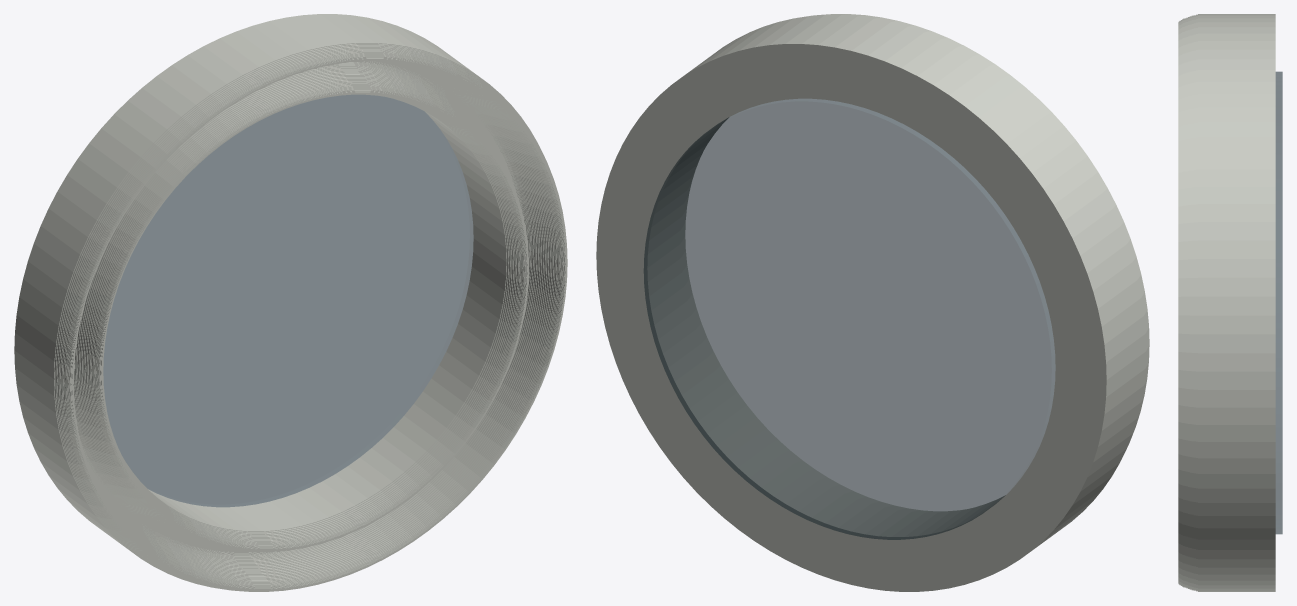
The model's file is barroco_circle.glb.
3 views of the same model, side by side, from view 1: azimuth 30°, elevation 25°; view 2: azimuth 150°, elevation 25°; view 3: azimuth 270°, elevation 25° (orthographic).
Visible parts, largest first — view 1: window_glass#0001, window_reveal#0001, window_profile#0096, window_profile#0001, window_profile#0084, window_profile#0080, window_profile#0081, window_profile#0093, window_profile#0082, window_profile#0095, window_profile#0094, window_profile#0066 (+70 smaller); view 2: window_glass#0001, window_reveal#0001, window_profile#0096, window_profile#0001, window_profile#0095, window_profile#0093, window_profile#0094; view 3: window_profile#0096, window_reveal#0001, window_glass#0001, window_profile#0094, window_profile#0093, window_profile#0092, window_profile#0089, window_profile#0095, window_profile#0090, window_profile#0091, window_profile#0088, window_profile#0085 (+5 smaller).
Boxes of the visible parts, <box> form: window_glass#0001: <box>103,94,473,507</box>; window_reveal#0001: <box>14,14,490,532</box>; window_profile#0096: <box>29,24,529,583</box>; window_profile#0001: <box>128,102,506,531</box>; window_profile#0084: <box>69,56,567,591</box>; window_profile#0080: <box>72,59,565,589</box>; window_profile#0081: <box>72,58,566,589</box>; window_profile#0093: <box>57,46,536,588</box>; window_profile#0082: <box>71,58,566,590</box>; window_profile#0095: <box>54,43,529,584</box>; window_profile#0094: <box>56,45,530,584</box>; window_profile#0066: <box>104,69,547,573</box>; window_glass#0001: <box>643,98,1055,539</box>; window_reveal#0001: <box>596,31,1123,591</box>; window_profile#0096: <box>700,15,1146,537</box>; window_profile#0001: <box>662,117,1005,524</box>; window_profile#0095: <box>812,14,1146,447</box>; window_profile#0093: <box>813,14,1147,435</box>; window_profile#0094: <box>811,14,1147,444</box>; window_profile#0096: <box>1198,14,1246,591</box>; window_reveal#0001: <box>1242,14,1275,591</box>; window_glass#0001: <box>1275,71,1282,534</box>; window_profile#0094: <box>1193,15,1195,590</box>; window_profile#0093: <box>1191,15,1193,590</box>; window_profile#0092: <box>1189,16,1191,589</box>; window_profile#0089: <box>1184,18,1186,587</box>; window_profile#0095: <box>1196,14,1197,591</box>; window_profile#0090: <box>1186,17,1187,588</box>; window_profile#0091: <box>1188,17,1189,588</box>; window_profile#0088: <box>1183,18,1184,587</box>; window_profile#0085: <box>1179,20,1180,585</box>.
Bounding box in the file's own units: 1.6 × 1.6 × 0.2896.
